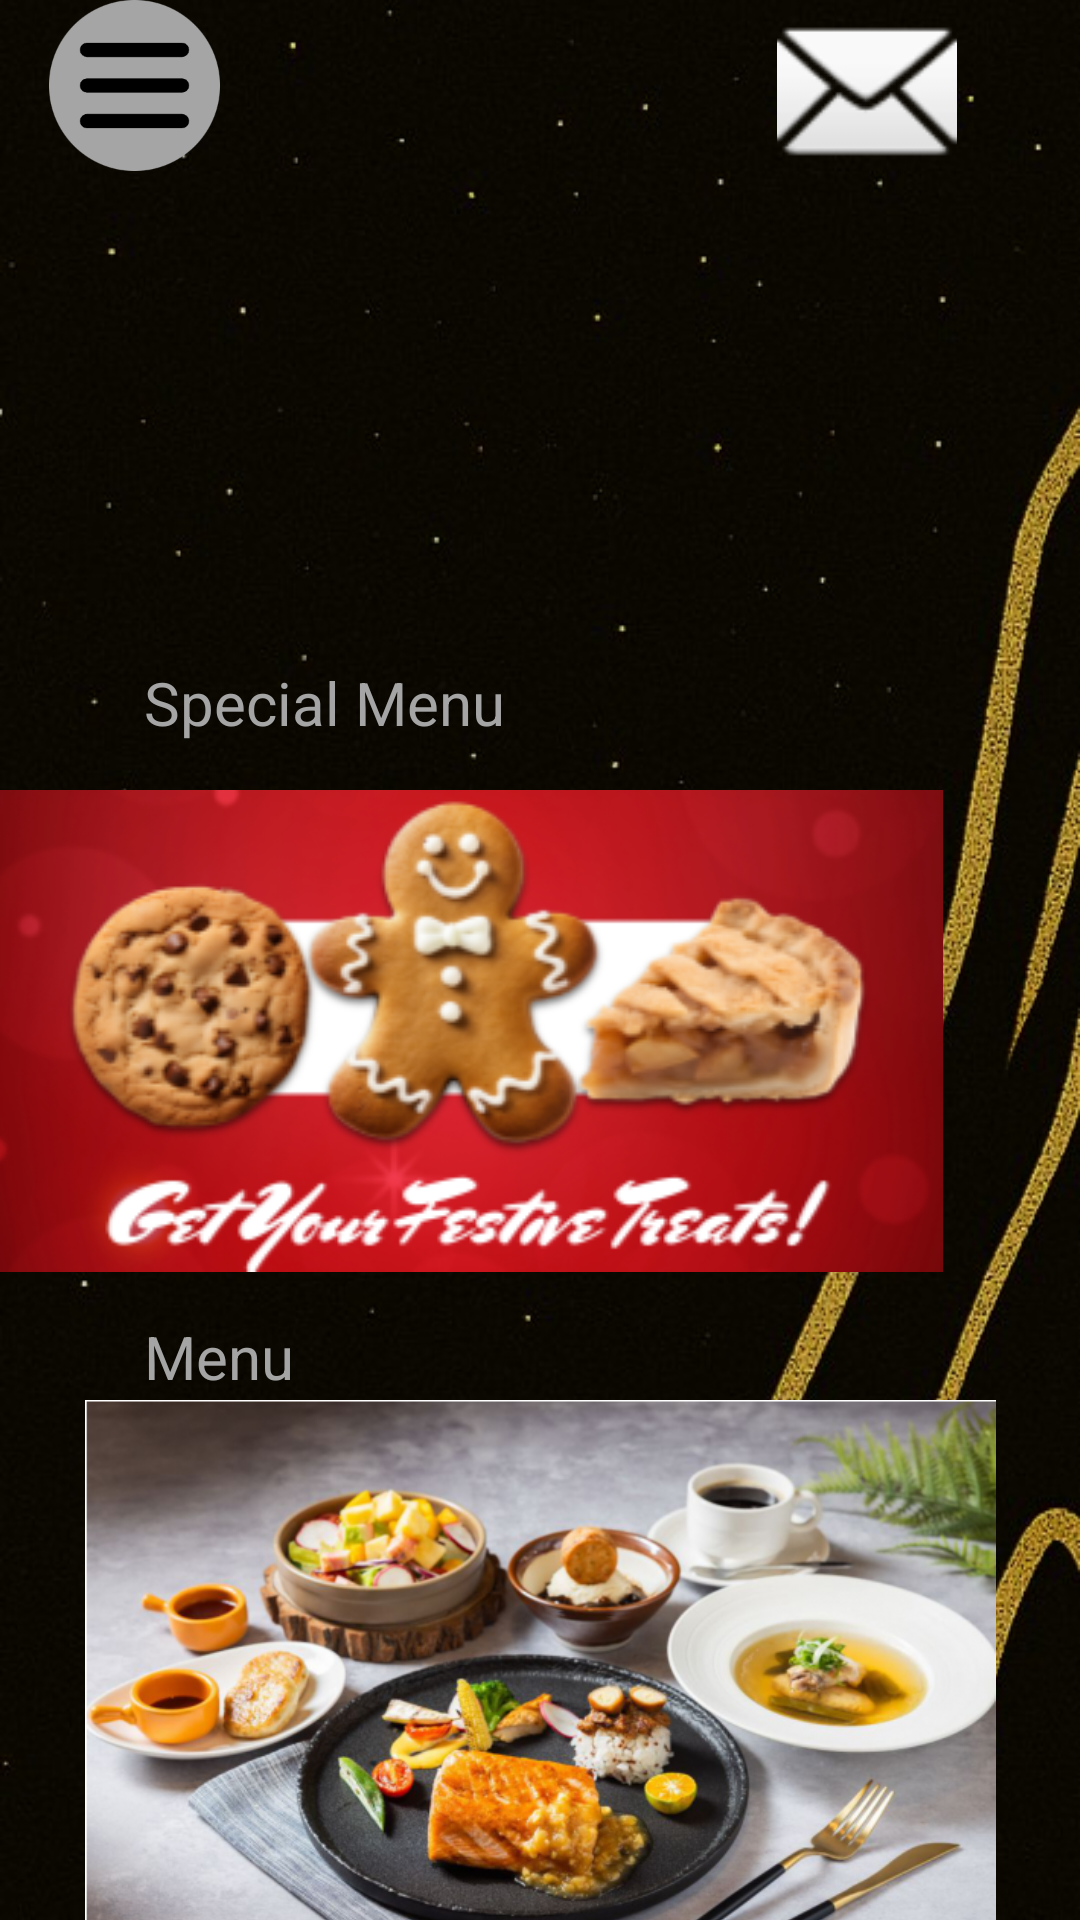

Locate icon controls on the screen. Image size 1080 × 1920, boxes as BBox(x1, y1, x2, y2).
burger menu: BBox(49, 0, 220, 171)
email: BBox(734, 27, 974, 156)
